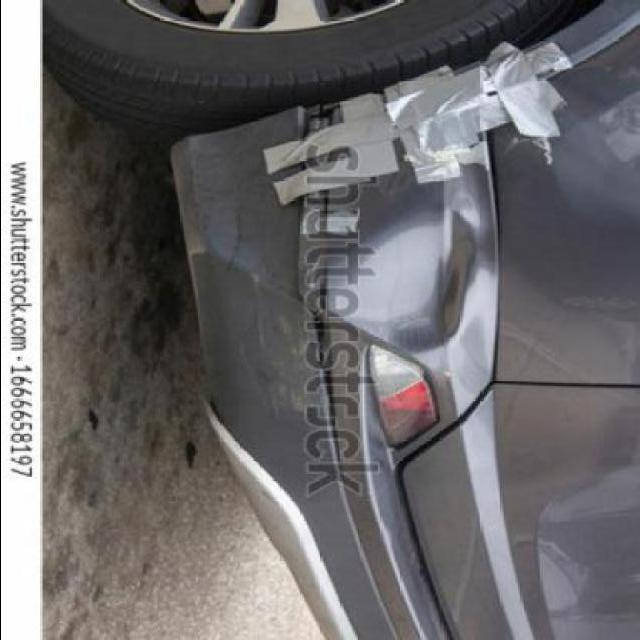rear-bumper-dent: (220, 34, 571, 405)
